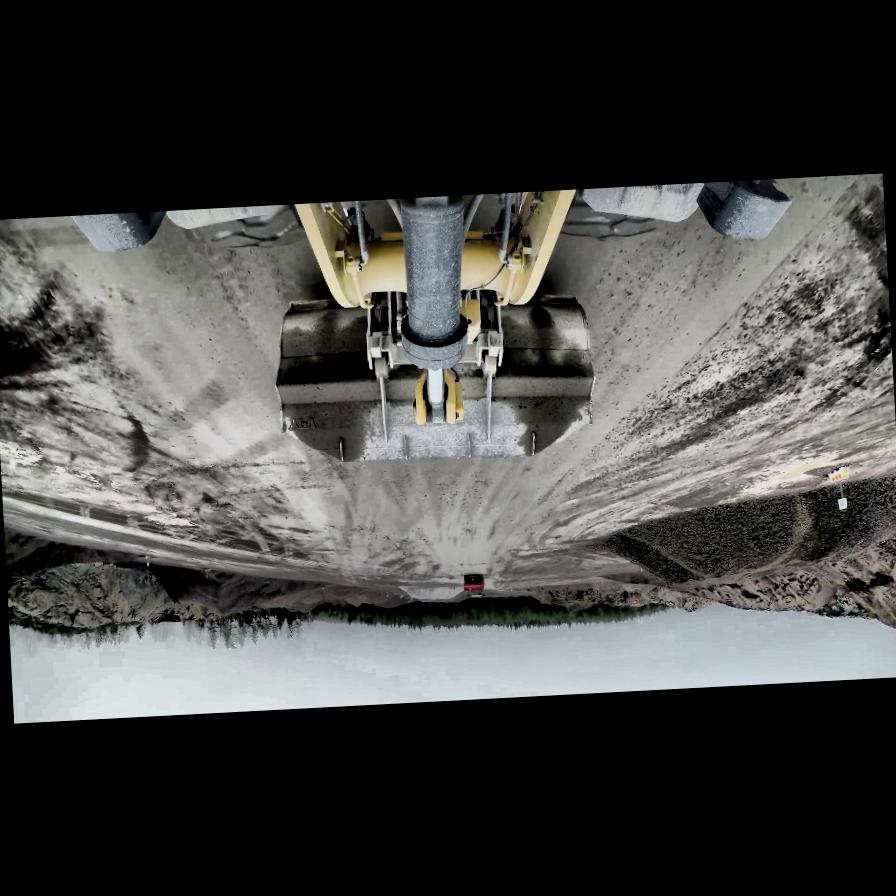anchor: (413, 365, 463, 424)
pile of gravel: (600, 473, 896, 591), (149, 554, 333, 620), (4, 524, 148, 588), (352, 577, 488, 610), (343, 587, 401, 609), (200, 597, 244, 616), (288, 596, 324, 614), (344, 594, 366, 608)
